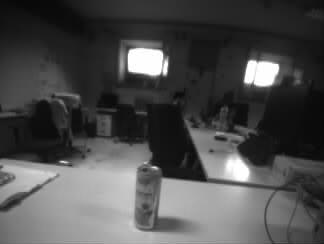Tin can: (135, 165, 159, 229)
